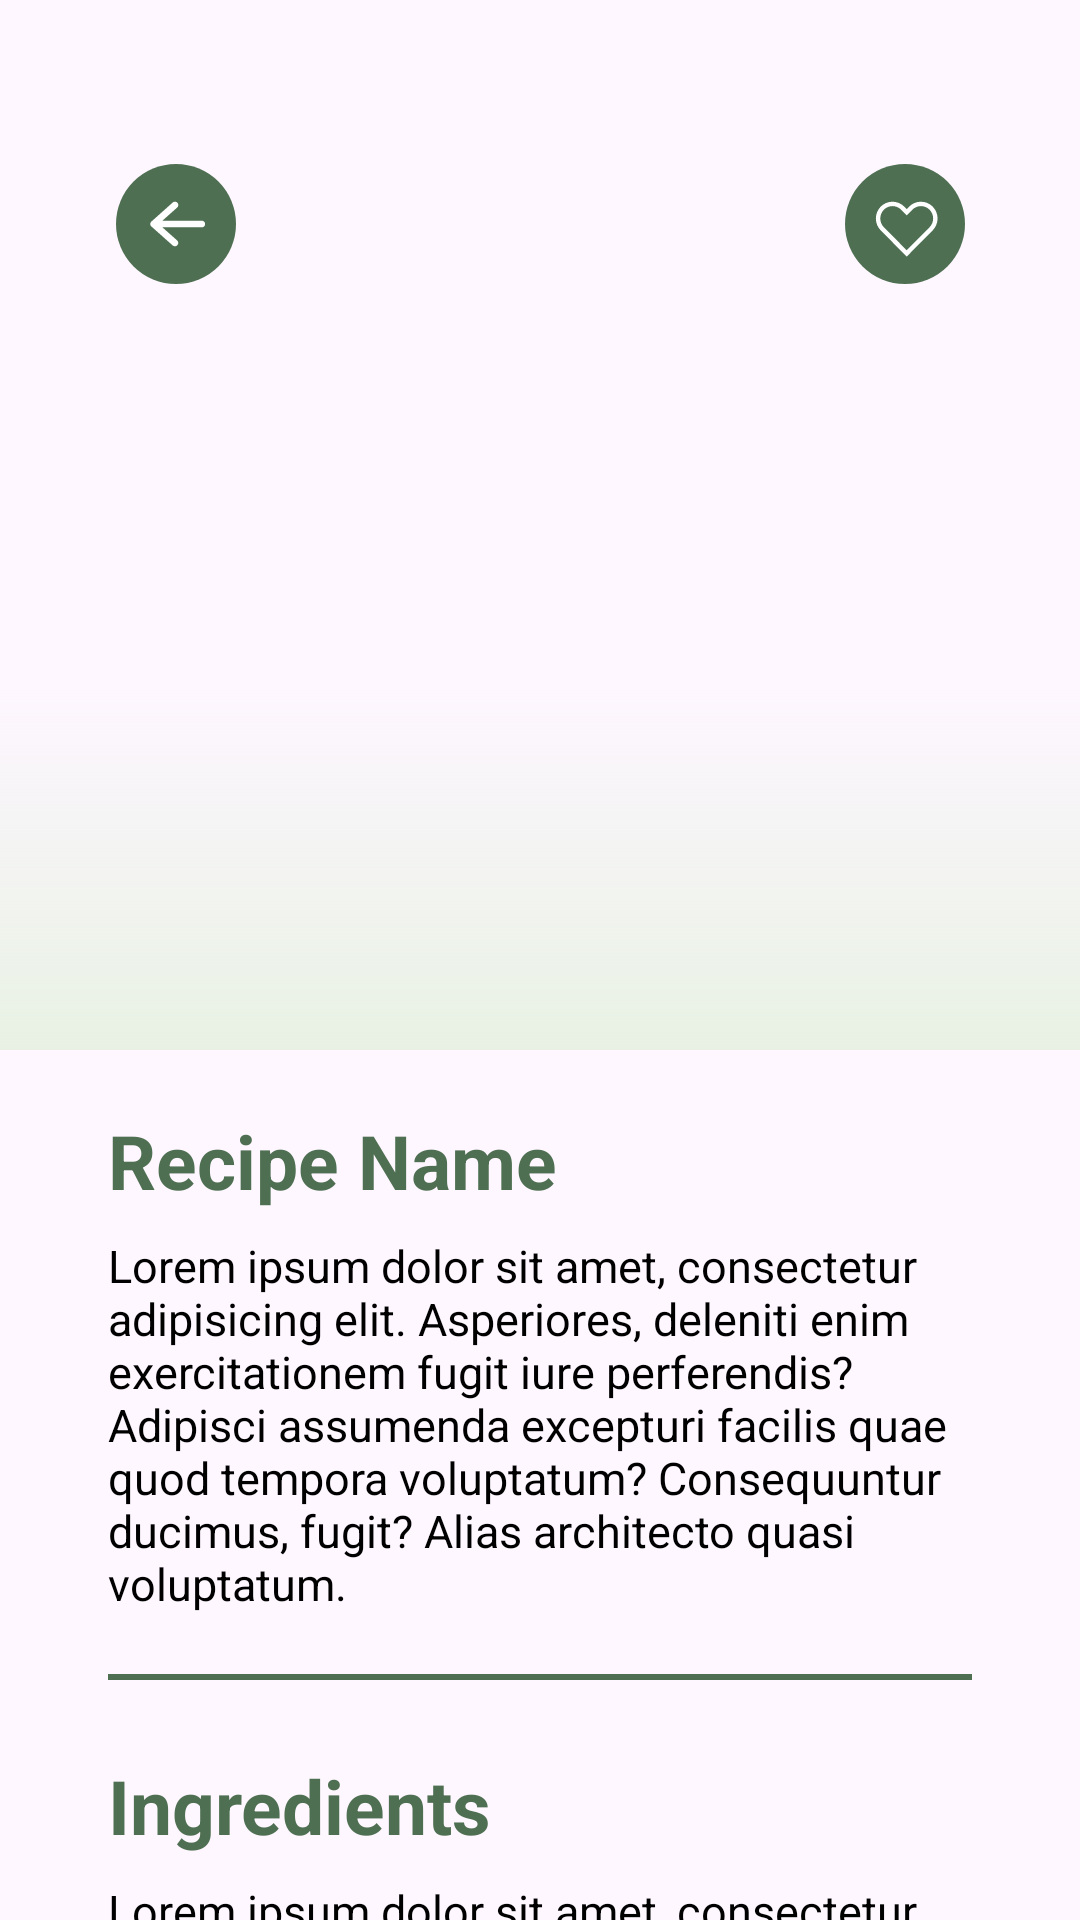

Screen size 1080 x 1920. Icon name, then its center in pixels as [x,y]:
back: [176,224]
fav: [905,224]
